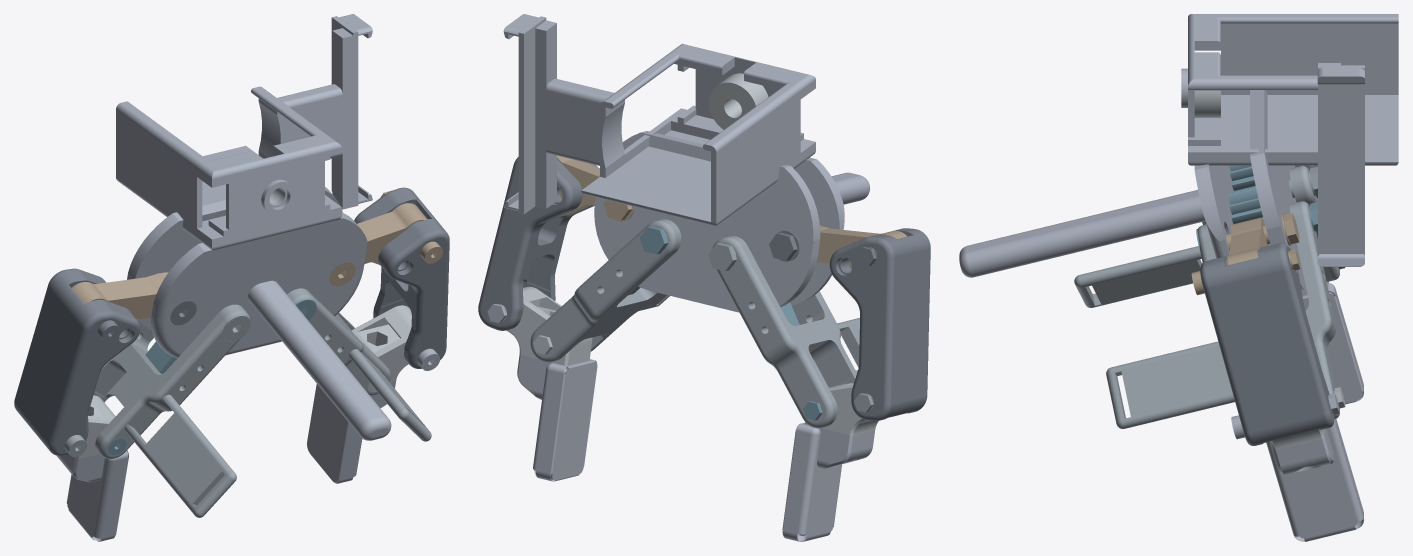
Rendered from robotiq-assembled-ring-free.glb.
3 views of the same model, side by side, from view 1: azimuth 30°, elevation 25°; view 2: azimuth 150°, elevation 25°; view 3: azimuth 270°, elevation 25° (orthographic). The views are drawn at different scales.
Visible parts, largest first — view 1: handheld-body, right-proximal, right-bar, left-bar, right-pad, left-proximal, left-pad, left-distal, right-frame, left-frame, right-distal, right-inner-chassis-pivot (+1 smaller); view 2: handheld-body, right-bar, right-proximal, left-bar, left-proximal, left-pad, right-pad, left-distal, camera-support, right-distal, right-frame, left-frame (+3 smaller); view 3: handheld-body, left-bar, left-proximal, left-pad, right-proximal, right-pad, left-frame, left-drive, camera-support, left-outer-chassis-pivot, right-drive, left-distal.
Boxes of the visible parts, left/top/right/bottom form: handheld-body: left=116, top=14, right=391, bottom=440; right-proximal: left=93, top=304, right=250, bottom=517; right-bar: left=14, top=268, right=140, bottom=455; left-bar: left=354, top=187, right=449, bottom=368; right-pad: left=57, top=450, right=128, bottom=541; left-proximal: left=287, top=288, right=431, bottom=441; left-pad: left=307, top=380, right=396, bottom=483; left-distal: left=351, top=305, right=411, bottom=382; right-frame: left=72, top=272, right=168, bottom=319; left-frame: left=357, top=203, right=427, bottom=264; right-distal: left=74, top=395, right=115, bottom=459; right-inner-chassis-pivot: left=223, top=315, right=250, bottom=341; handheld-body: left=503, top=14, right=869, bottom=312; right-bar: left=829, top=228, right=930, bottom=420; right-proximal: left=712, top=236, right=859, bottom=428; left-bar: left=478, top=157, right=597, bottom=330; left-proximal: left=530, top=219, right=681, bottom=362; left-pad: left=517, top=354, right=597, bottom=481; right-pad: left=782, top=422, right=875, bottom=541; left-distal: left=506, top=286, right=592, bottom=365; camera-support: left=708, top=73, right=768, bottom=129; right-distal: left=805, top=382, right=878, bottom=435; right-frame: left=816, top=225, right=906, bottom=268; left-frame: left=557, top=155, right=599, bottom=216; handheld-body: left=959, top=14, right=1398, bottom=290; left-bar: left=1200, top=243, right=1334, bottom=445; left-proximal: left=1106, top=201, right=1339, bottom=428; left-pad: left=1266, top=419, right=1363, bottom=541; right-proximal: left=1074, top=165, right=1339, bottom=307; right-pad: left=1302, top=281, right=1363, bottom=404; left-frame: left=1227, top=217, right=1269, bottom=265; left-drive: left=1228, top=186, right=1270, bottom=245; camera-support: left=1194, top=90, right=1220, bottom=117; left-outer-chassis-pivot: left=1225, top=213, right=1299, bottom=250; right-drive: left=1229, top=165, right=1255, bottom=191; left-distal: left=1270, top=429, right=1324, bottom=449.
Bounding box in the file's own units: 0.1528 × 0.1616 × 0.1334.
